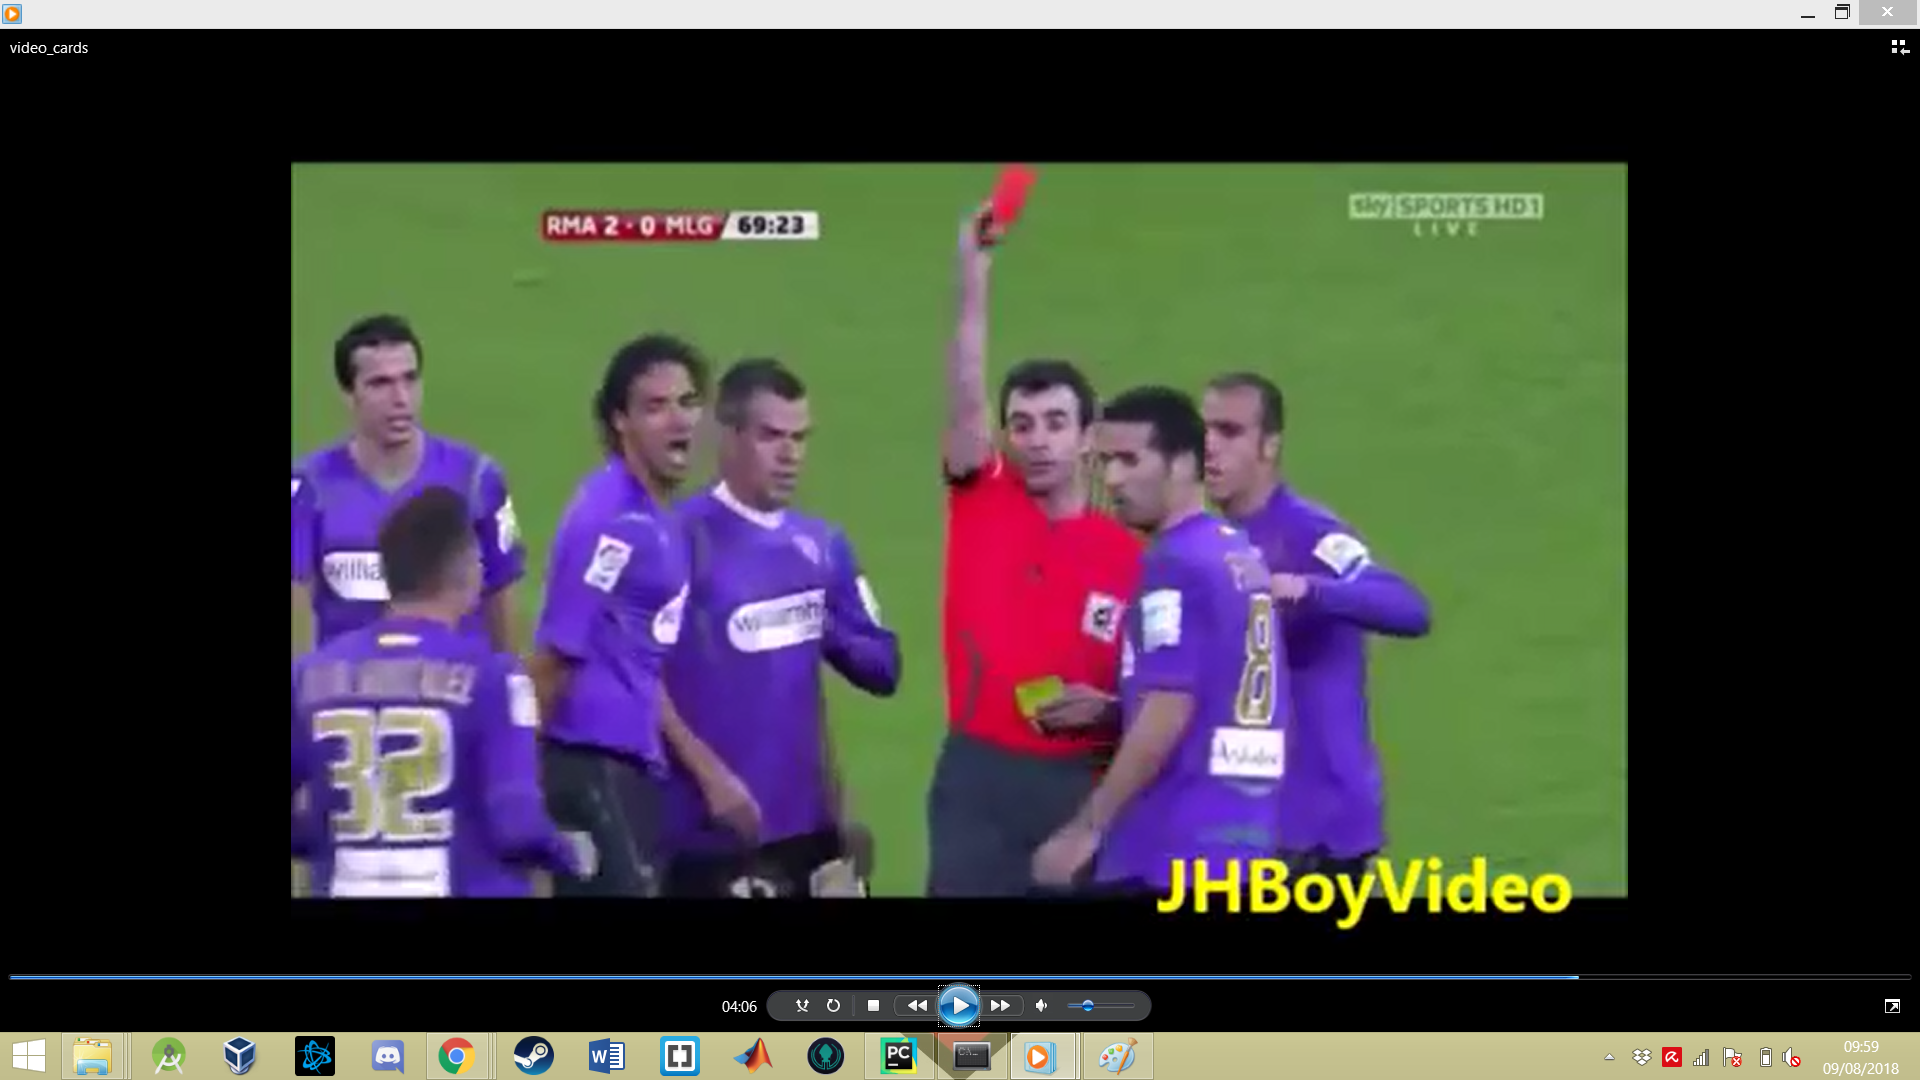red_card: (945, 160, 1042, 258)
